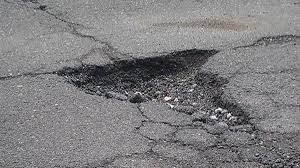pothole: (44, 28, 298, 150)
